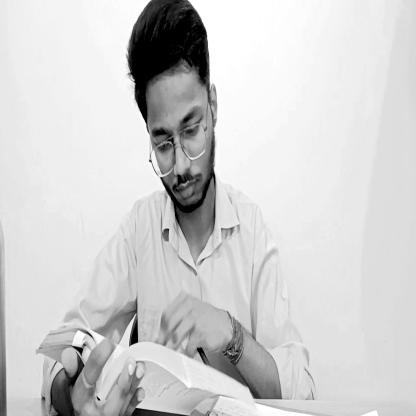Distracted: (126, 0, 220, 222)
